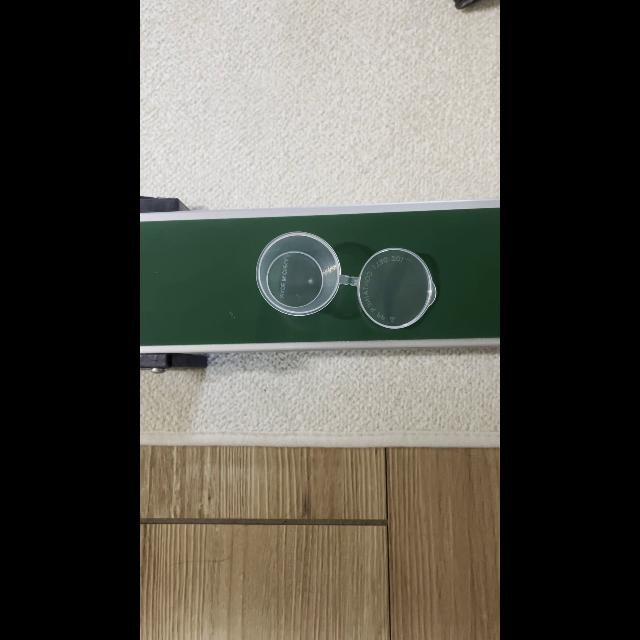clean: (262, 234, 334, 322), (359, 252, 429, 328)
